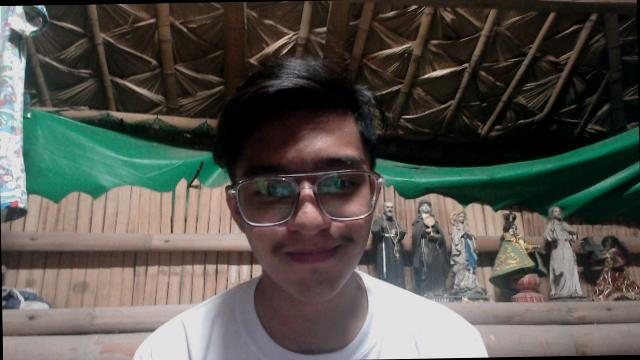senang: (218, 97, 380, 307)
